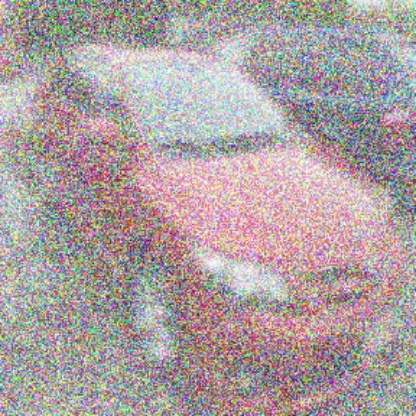Vehicle: (31, 47, 409, 415)
